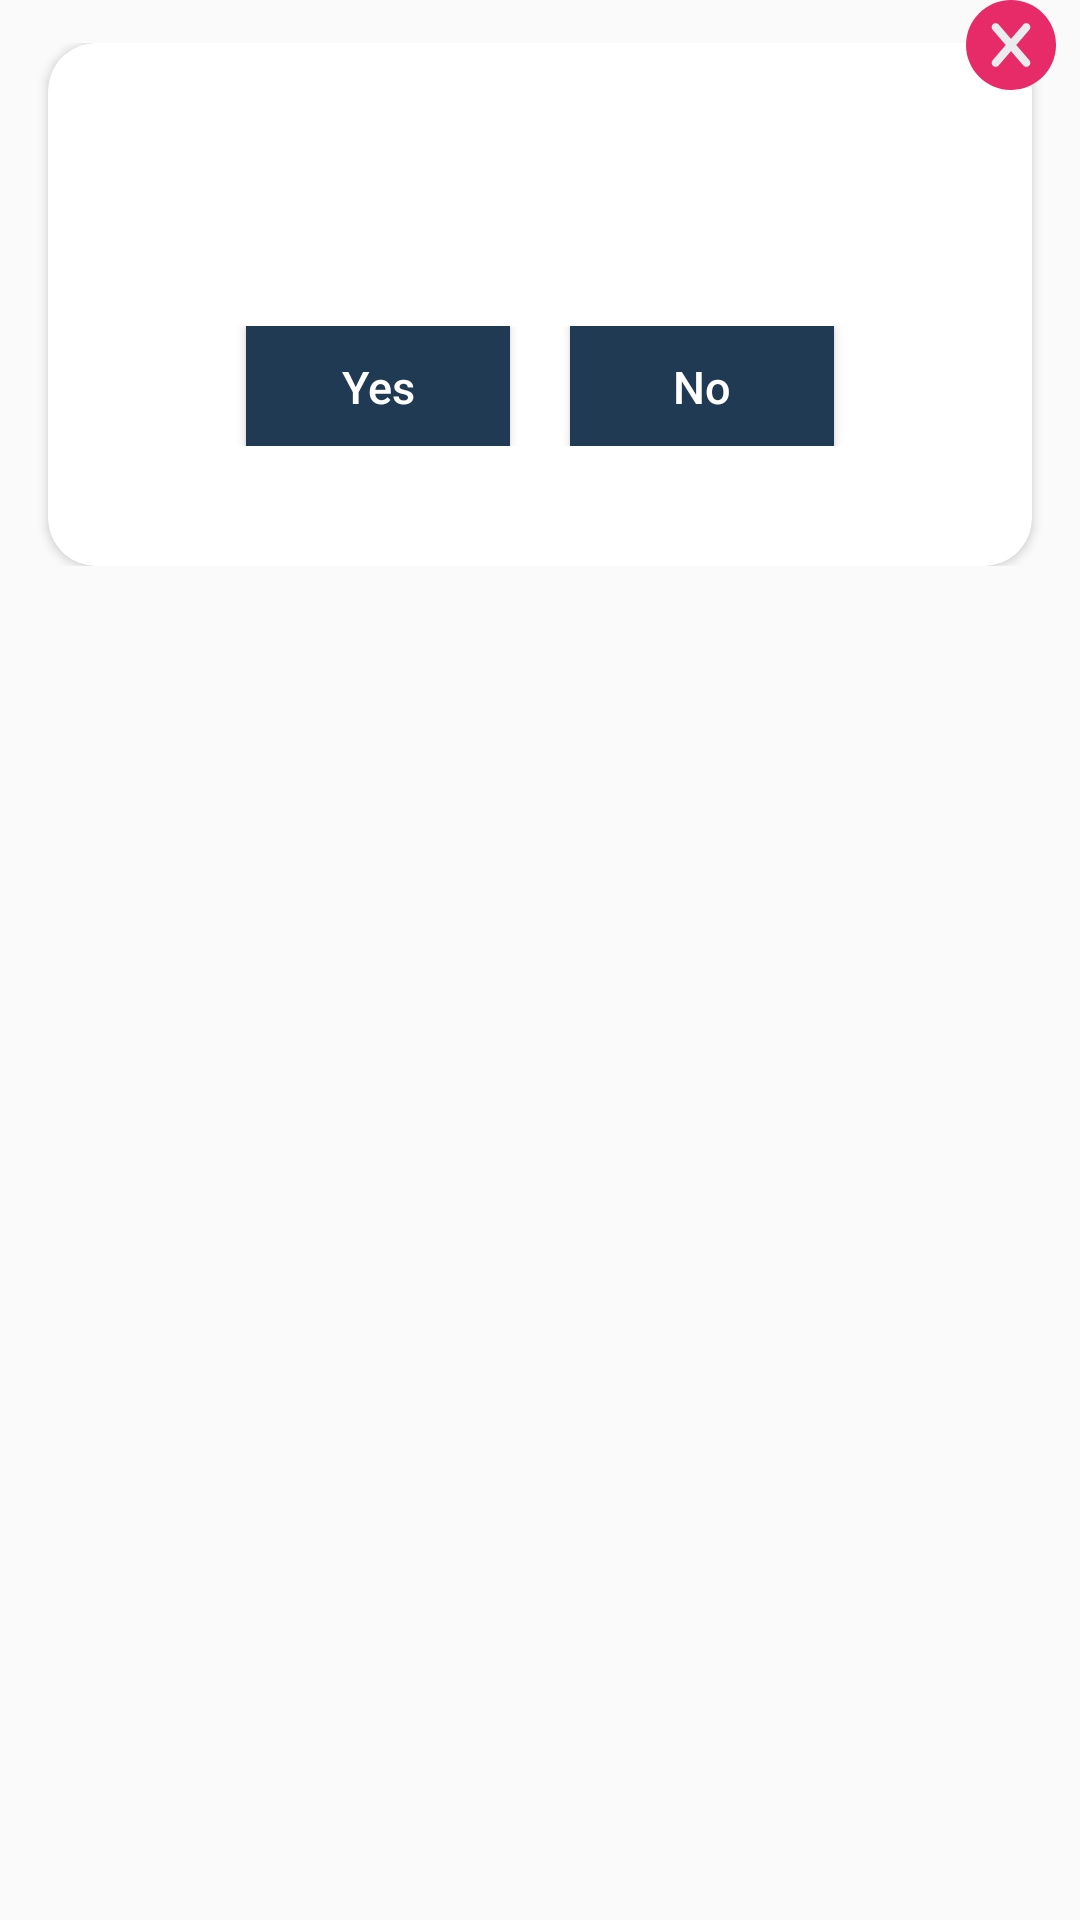

Icons on this 1080x1920 Android screen, each with its box as (x1, y1, x2, y2):
cancel: (966, 0, 1056, 90)
